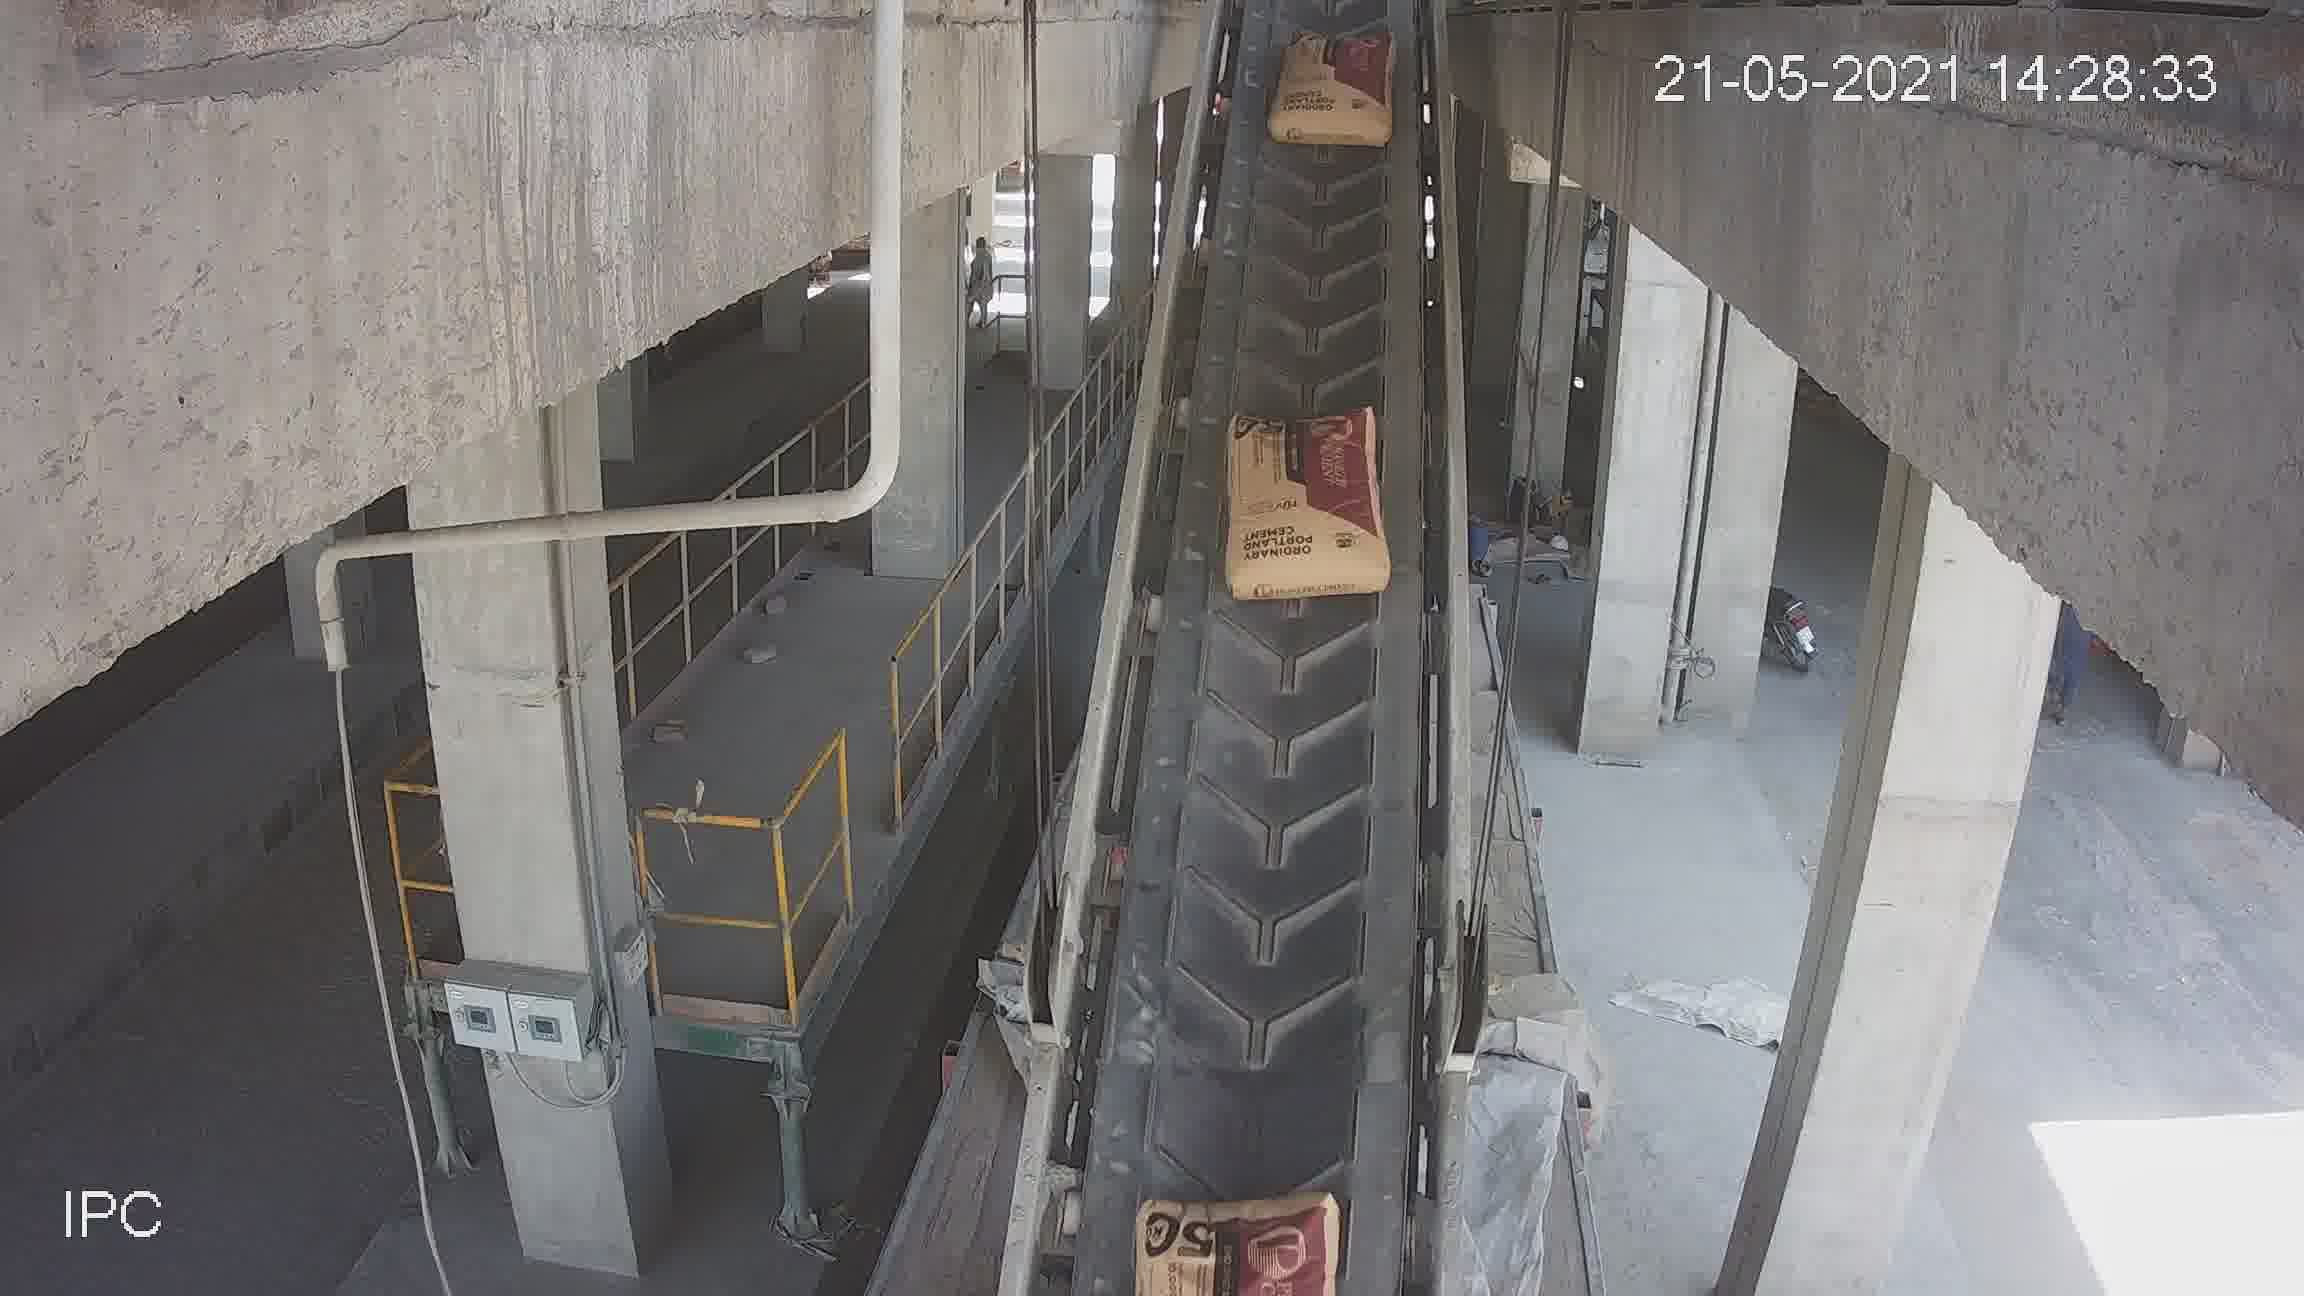bag: (1234, 418, 1385, 604), (1143, 1187, 1336, 1282), (1282, 40, 1385, 133)
belt: (1040, 57, 1461, 1283)
